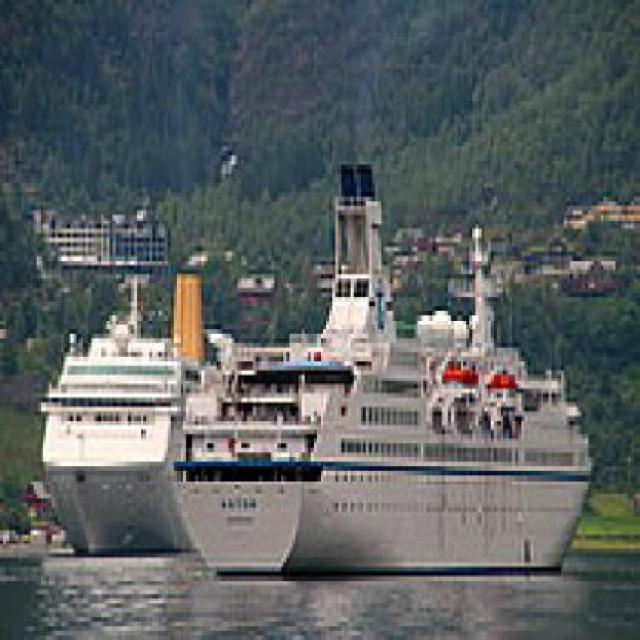cruise: (166, 125, 607, 591), (31, 262, 226, 563)
